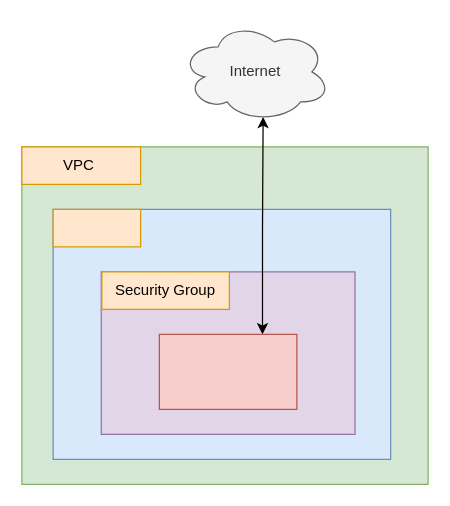
Some shapes in this 450 by 506 pixel diagram are drawn without their labels. The shapes that lost their labels are listed below. From the top down, each one's centre as x and y in pixels, then its label:
At (96,227): "Subnet".
At (227,371): "Ubuntu 18 EC2 Instance".
